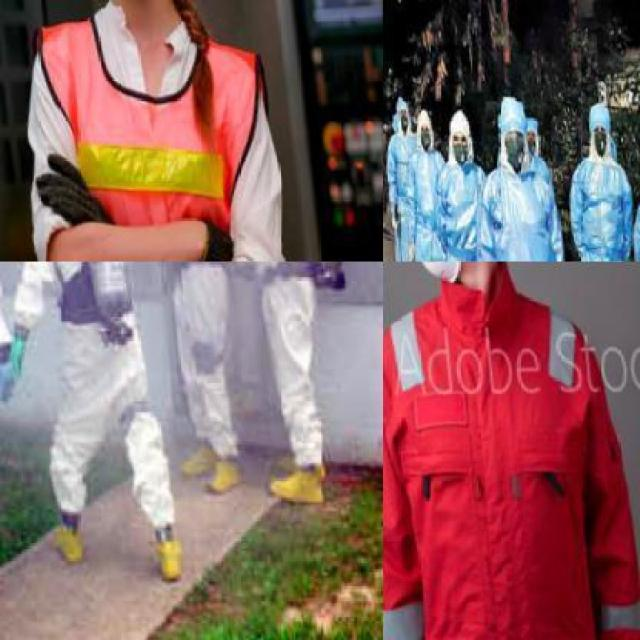vest: (383, 271, 639, 638), (28, 9, 275, 260), (26, 261, 157, 457), (231, 262, 337, 449), (151, 262, 238, 418), (469, 168, 578, 260), (562, 155, 638, 260), (426, 158, 497, 260), (398, 146, 457, 260), (383, 135, 428, 260)
